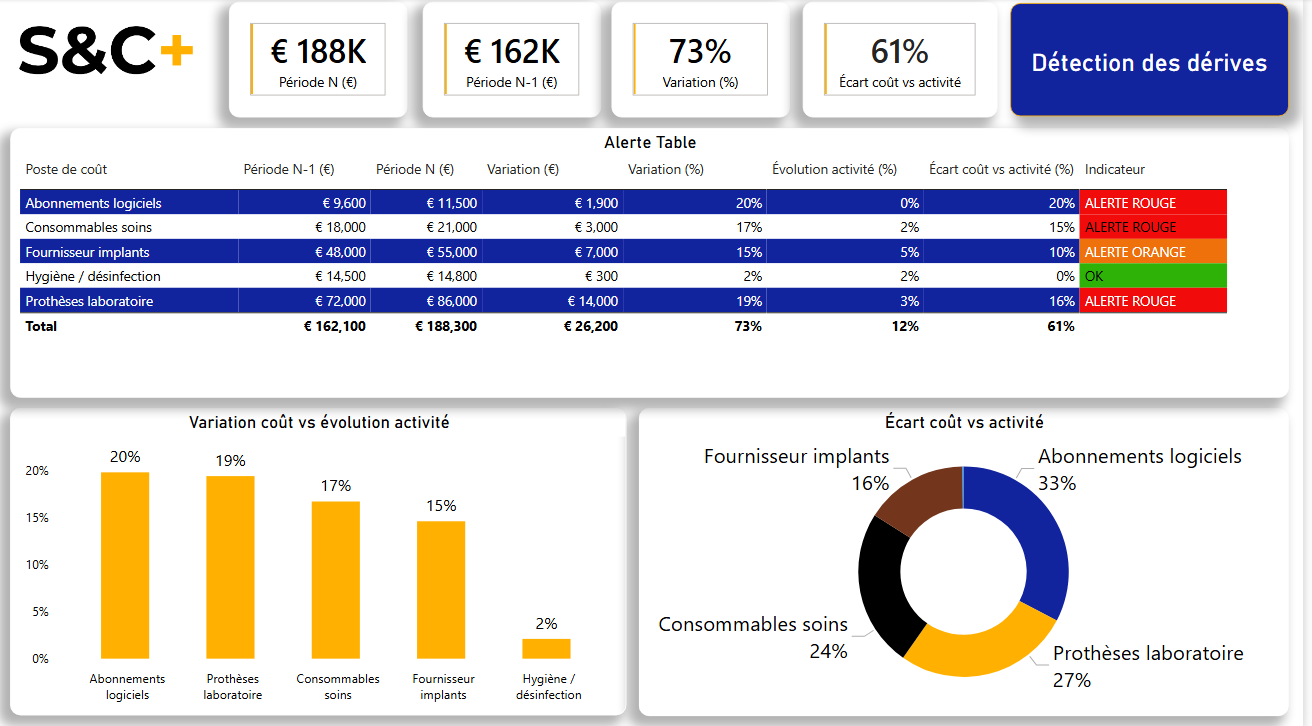

The page's visual inventory and layout, read from the dashboard file:
{"tool":"powerbi","page":{"name":"Détection des dérives","canvas":[1280,720],"ordinal":4},"visuals":[{"type":"cardVisual","fields":{"Data":["Sum(Analyse coûts.Période N (€))"]},"box":[226.2,3.8,175,113.8],"z":3000},{"type":"cardVisual","fields":{"Data":["Sum(Analyse coûts.Période N-1 (€))"]},"box":[416.2,3.8,175,113.8],"z":4000},{"type":"cardVisual","fields":{"Data":["Sum(Analyse coûts.Variation (%))"]},"box":[601.2,3.8,175,113.8],"z":5000},{"type":"image","box":[0,2.6,212.3,98.4],"z":6000},{"type":"donutChart","title":"Écart coût vs activité","fields":{"Category":["Détection des dérives.Poste de coût"],"Y":["Sum(Détection des dérives.Écart coût vs activité)"]},"box":[628.8,402.5,637.5,302.5],"z":7000},{"type":"clusteredColumnChart","title":"Variation coût vs évolution activité","fields":{"Category":["Analyse coûts.Poste de coût"],"Y":["Sum(Analyse coûts.Variation (%))","Sum(Analyse coûts.Variation (%))"]},"box":[11.2,402.5,605,301.2],"z":8000},{"type":"cardVisual","fields":{"Data":["Sum(Analyse coûts.Écart coût vs activité)"]},"box":[788.8,3.8,191.2,113.8],"z":9000},{"type":"tableEx","title":"Alerte Table","fields":{"Values":["Analyse coûts.Poste de coût","Sum(Analyse coûts.Période N-1 (€))","Sum(Analyse coûts.Période N (€))","Sum(Analyse coûts.Variation (€))","Sum(Analyse coûts.Variation (%))","Sum(Analyse coûts.Évolution activité (%))","Sum(Analyse coûts.Écart coût vs activité)","Analyse coûts.INDICATEUR"]},"box":[11.2,127.5,1255,265],"z":10000},{"type":"textbox","box":[992.5,5,273.8,111.2],"z":10001}]}

Visuals, with their boxes in screenshot pixels (x1, y1, x2, y2), scaled from the page's 1280x720 canvas onto the 1312x726 screenshot:
cardVisual - Sum(Analyse coûts.Période N (€)): bbox=(232, 4, 411, 119)
cardVisual - Sum(Analyse coûts.Période N-1 (€)): bbox=(427, 4, 606, 119)
cardVisual - Sum(Analyse coûts.Variation (%)): bbox=(616, 4, 796, 119)
image: bbox=(0, 3, 218, 102)
"Écart coût vs activité" donutChart: bbox=(645, 406, 1298, 711)
"Variation coût vs évolution activité" clusteredColumnChart: bbox=(11, 406, 632, 710)
cardVisual - Sum(Analyse coûts.Écart coût vs activité): bbox=(809, 4, 1004, 119)
"Alerte Table" tableEx: bbox=(11, 129, 1298, 396)
textbox: bbox=(1017, 5, 1298, 117)
